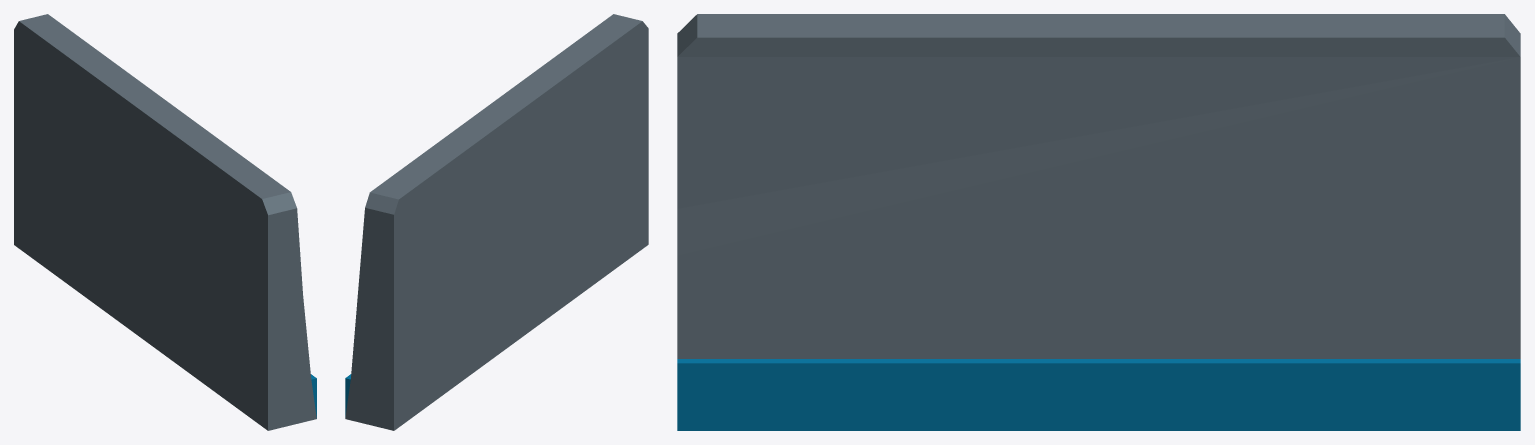
Rendered from Wall.fbx.
The picture shows the model from 3 angles, left to right: view 1: azimuth 30°, elevation 25°; view 2: azimuth 150°, elevation 25°; view 3: azimuth 270°, elevation 25°; orthographic projection. The views are drawn at different scales.
Parts seen in each view (by area): view 1: Wall; view 2: Wall; view 3: Wall.
Boxes of the visible parts, x1,y1,x2,y2 form: Wall: (14, 14, 316, 430); Wall: (345, 14, 648, 430); Wall: (677, 14, 1520, 430).
Size of the model in its own units: 1 by 4.48 by 9.06.
